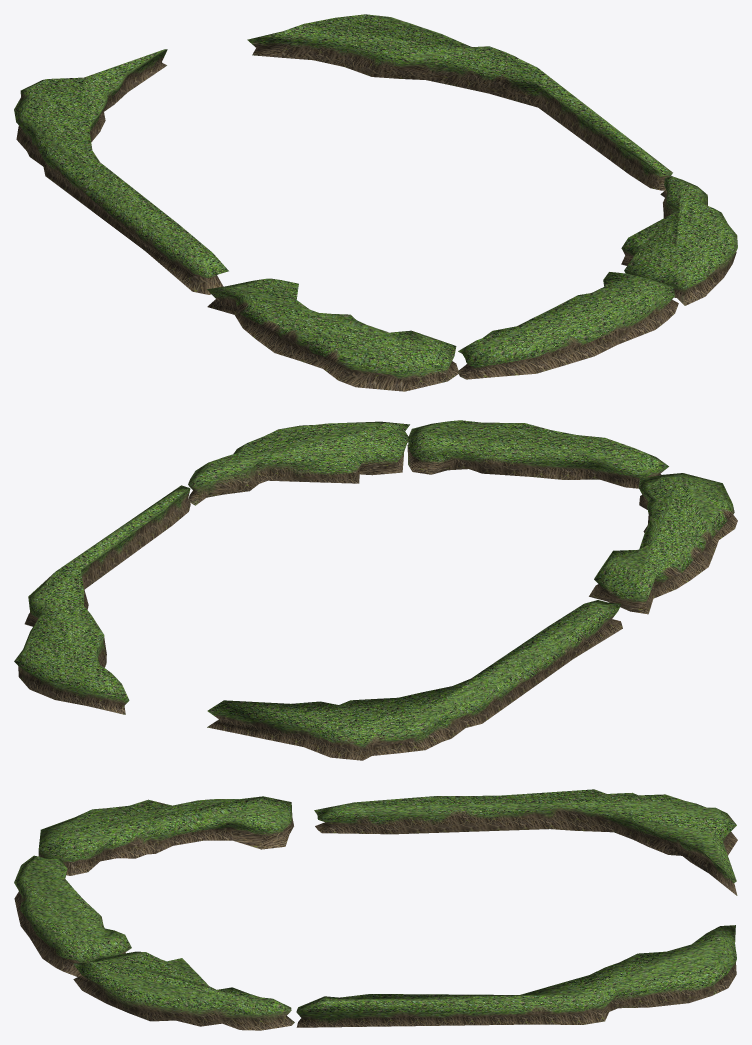
Rendered from Manglar.fbx.
3 renders of one model, top to bottom at view 1: azimuth 30°, elevation 25°; view 2: azimuth 150°, elevation 25°; view 3: azimuth 270°, elevation 25°, orthographic. The views are drawn at different scales.
Parts seen in each view (by area): view 1: Manglar; view 2: Manglar; view 3: Manglar.
Boxes of the visible parts, x1=… form: Manglar: x1=14, y1=14, x2=737, y2=391; Manglar: x1=14, y1=420, x2=737, y2=760; Manglar: x1=14, y1=789, x2=737, y2=1030.
Size of the model in its own units: 249 by 19.86 by 358.
